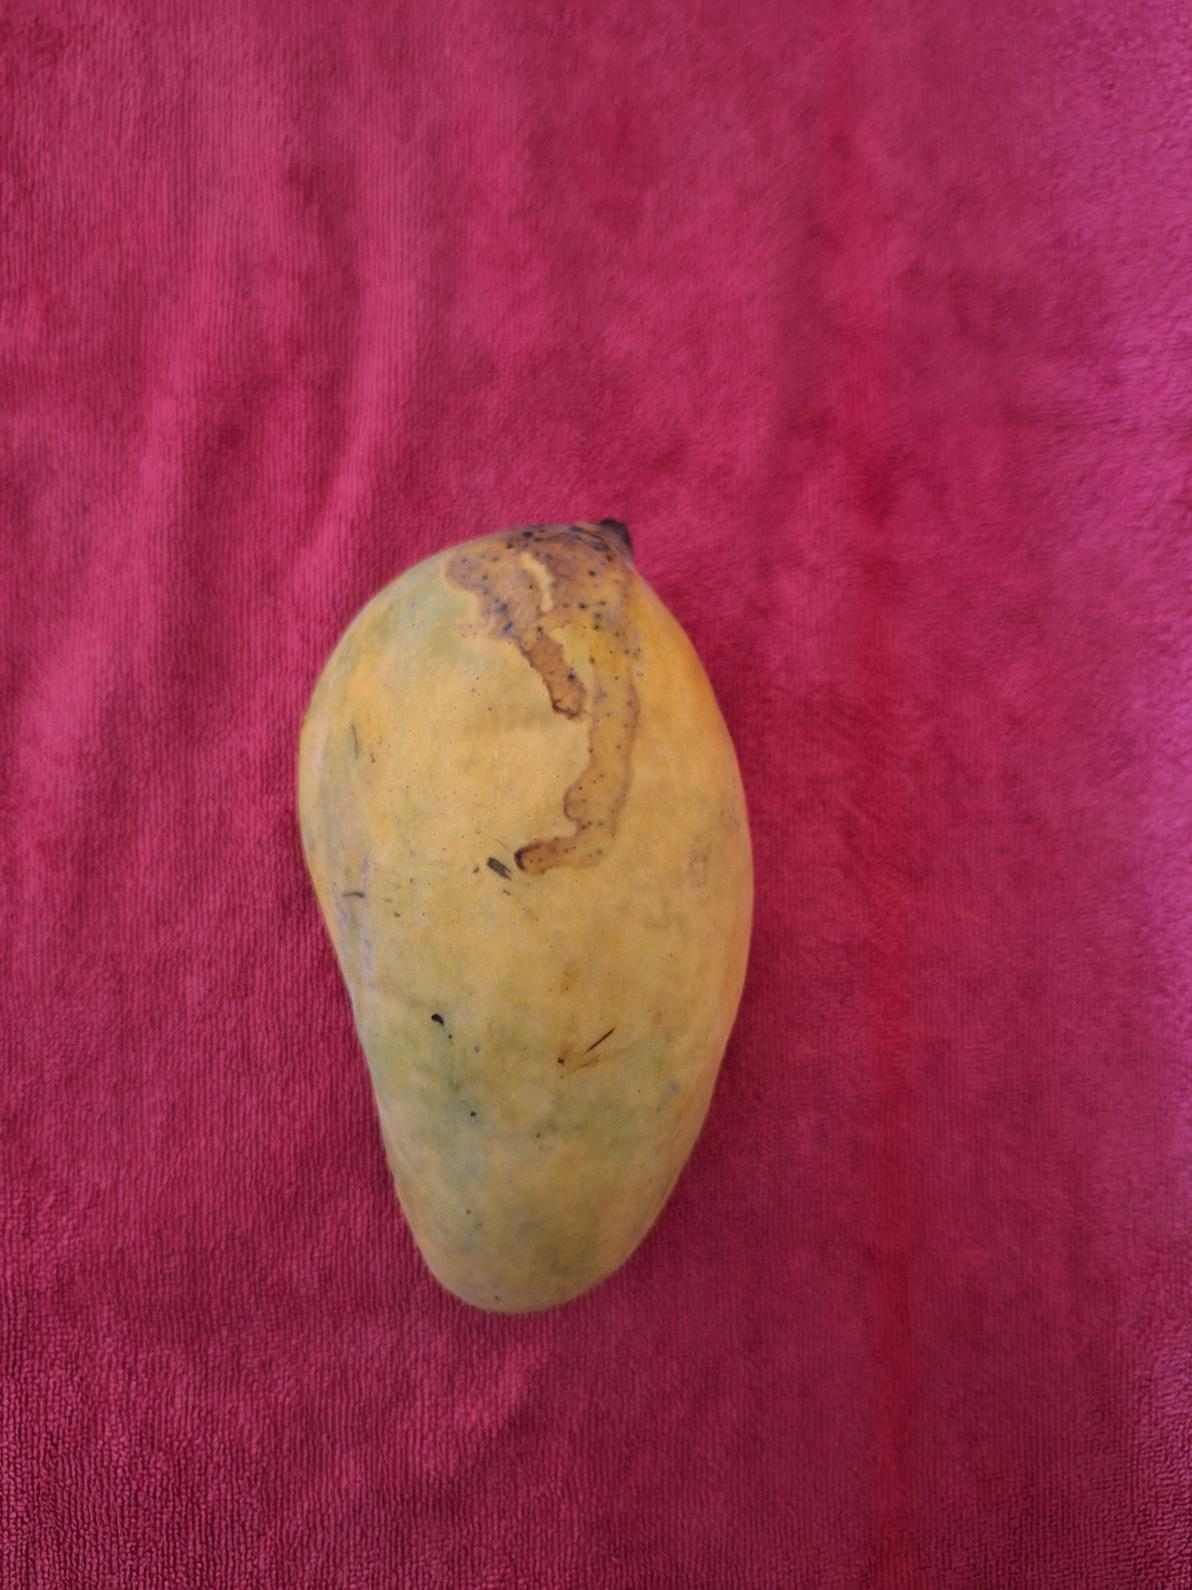mango: (294, 515, 756, 1315)
